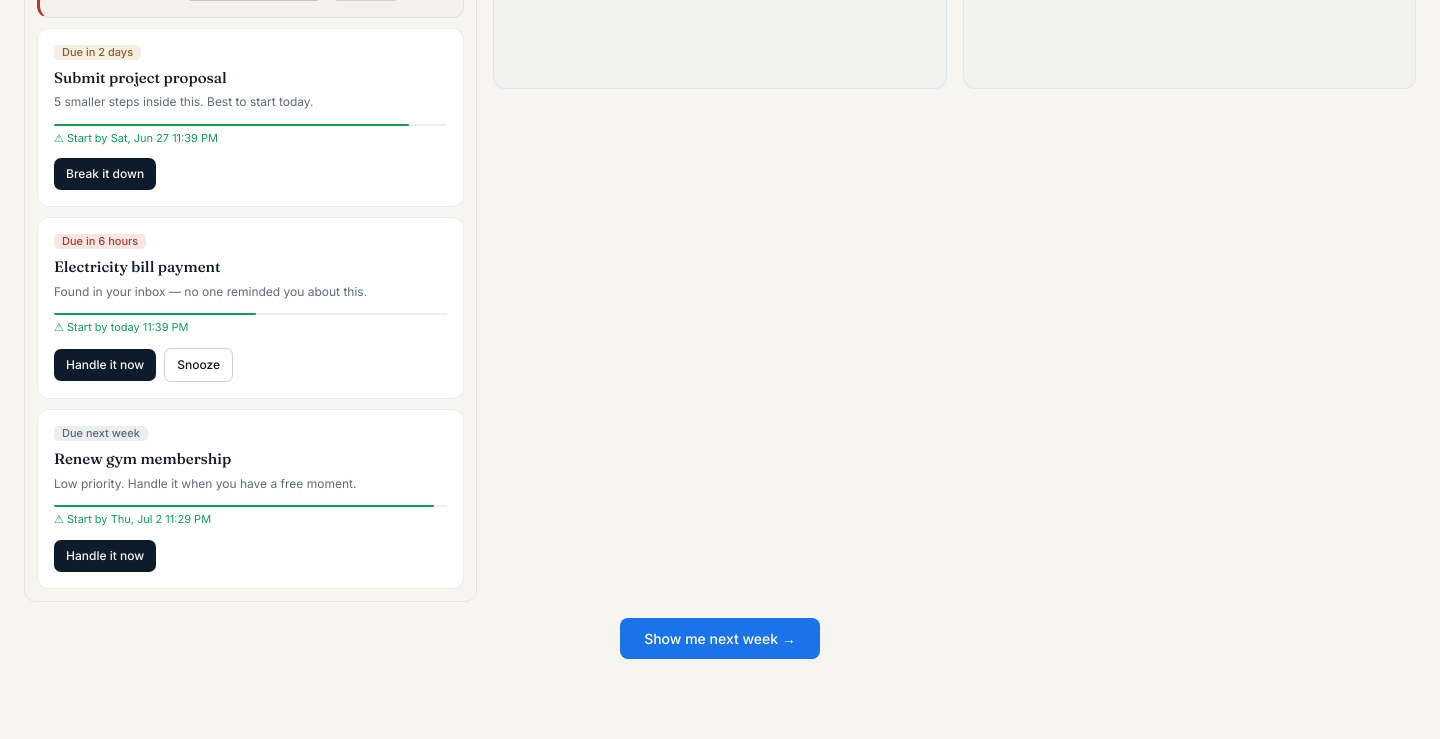
Test: New Features: Countdown, Calendar, and Dashboard › Dashboard metrics update when a task is completed via Kanban flow
(page scrolled)
Click the button "Handle it now" below "⚠ Start by today 11:39 PM" at (105, 365), box [54,349,156,381]
(page scrolled)
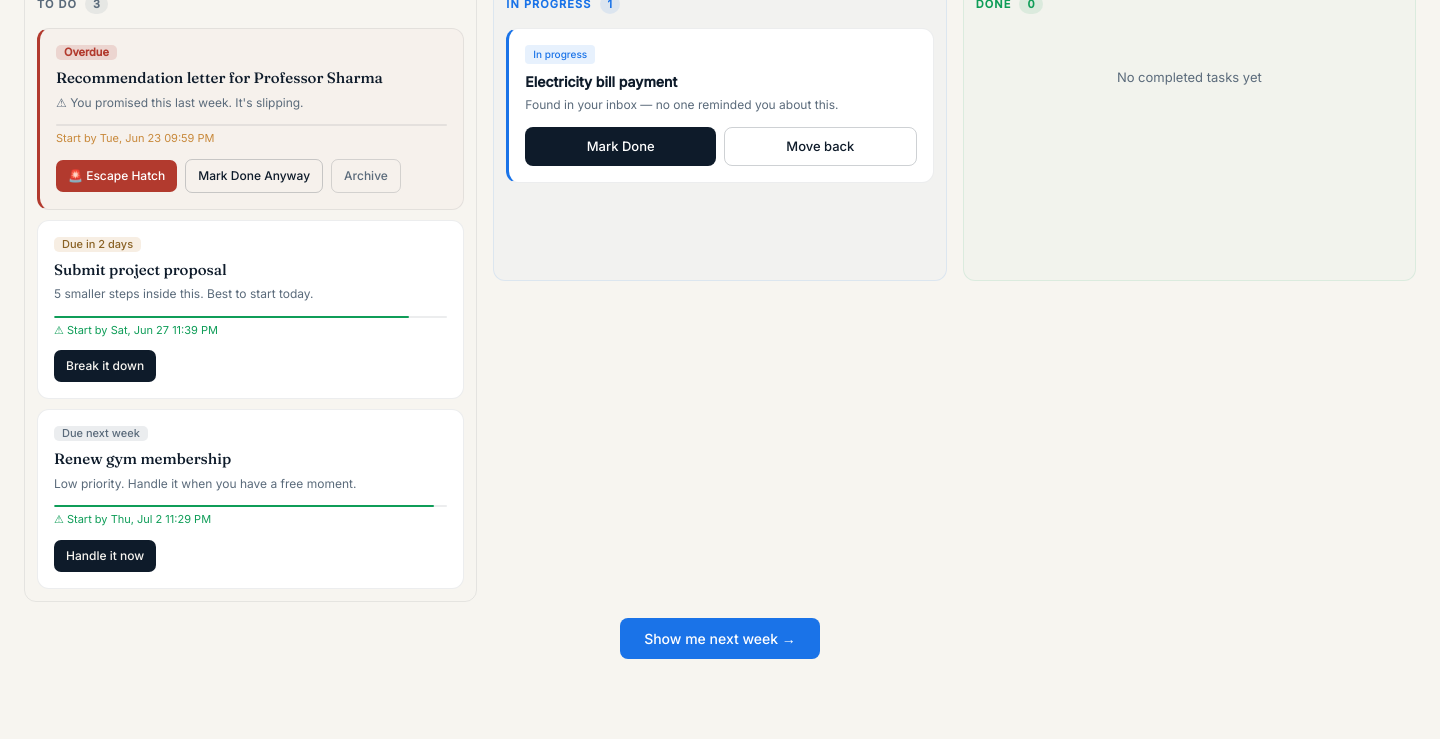
Click the button "Mark Done" at (621, 147), box [525,127,716,166]
(page scrolled)
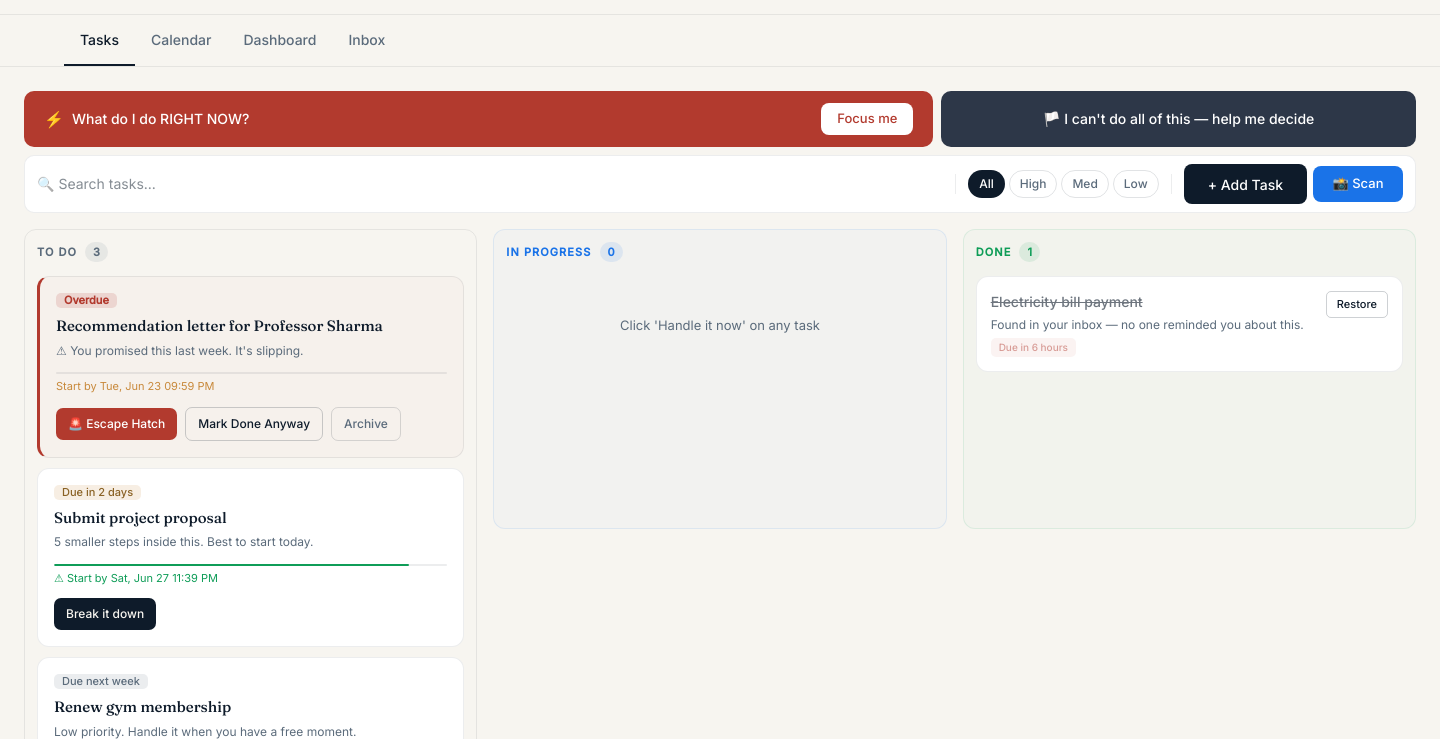
Click the button "Dashboard" at (280, 40), box [227,15,332,66]
(page scrolled)
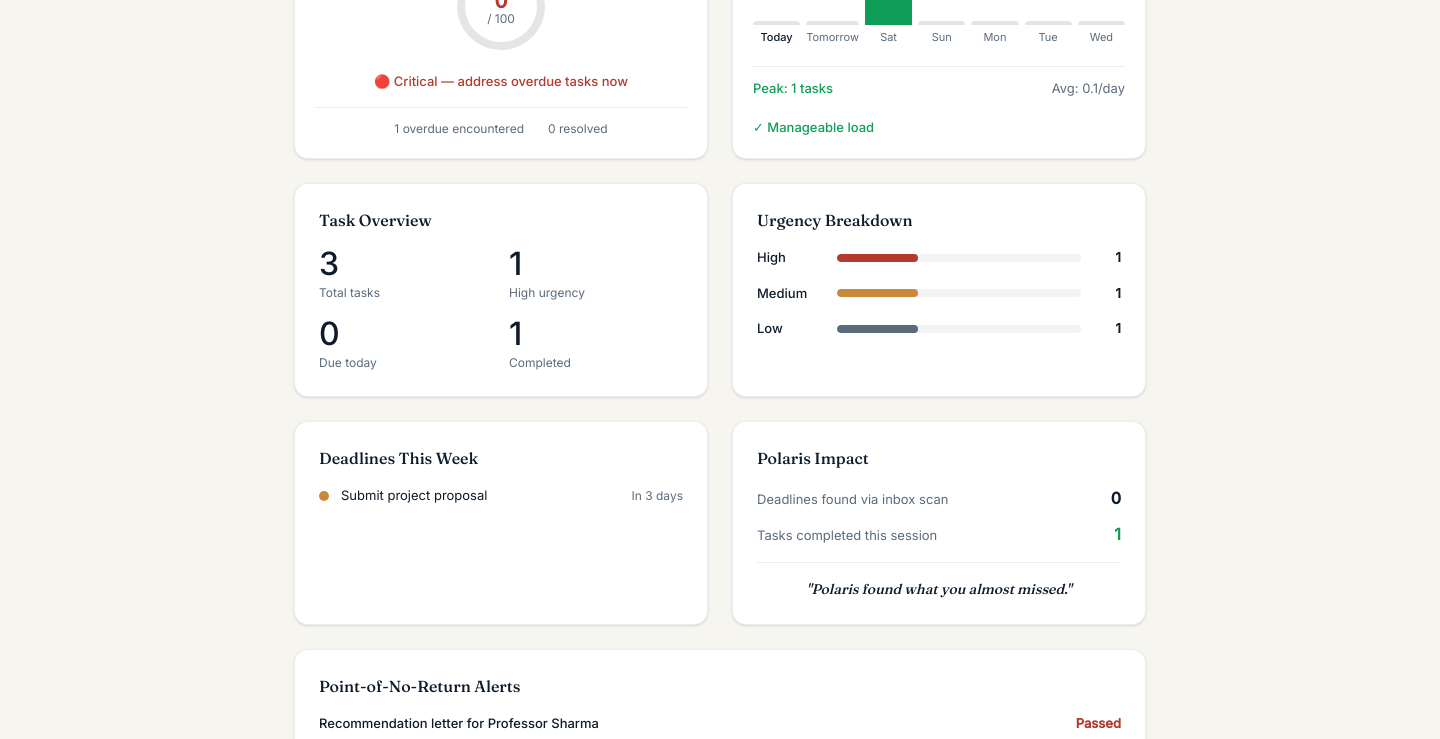
Expected: the text "3" is shown, [319,244,339,283]
Now the text "1" below "Total tasks" is shown, box [509,314,522,353]
